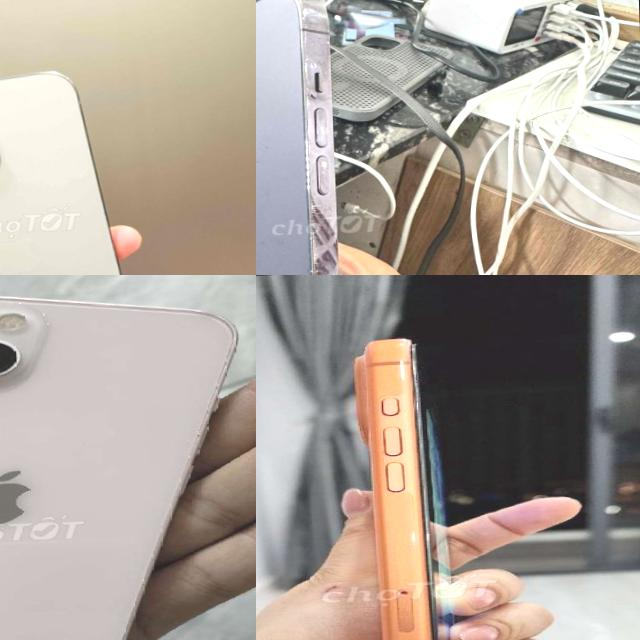gen_12_13: (0, 275, 256, 640)
gen_14: (256, 0, 375, 275)
gen_15: (0, 65, 164, 275)
gen_17: (320, 324, 495, 640)
